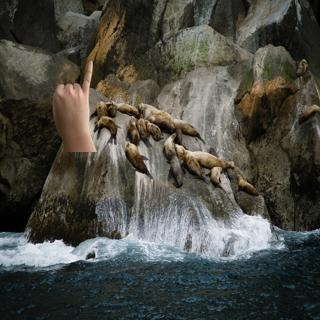FINE: (46, 57, 100, 138)
